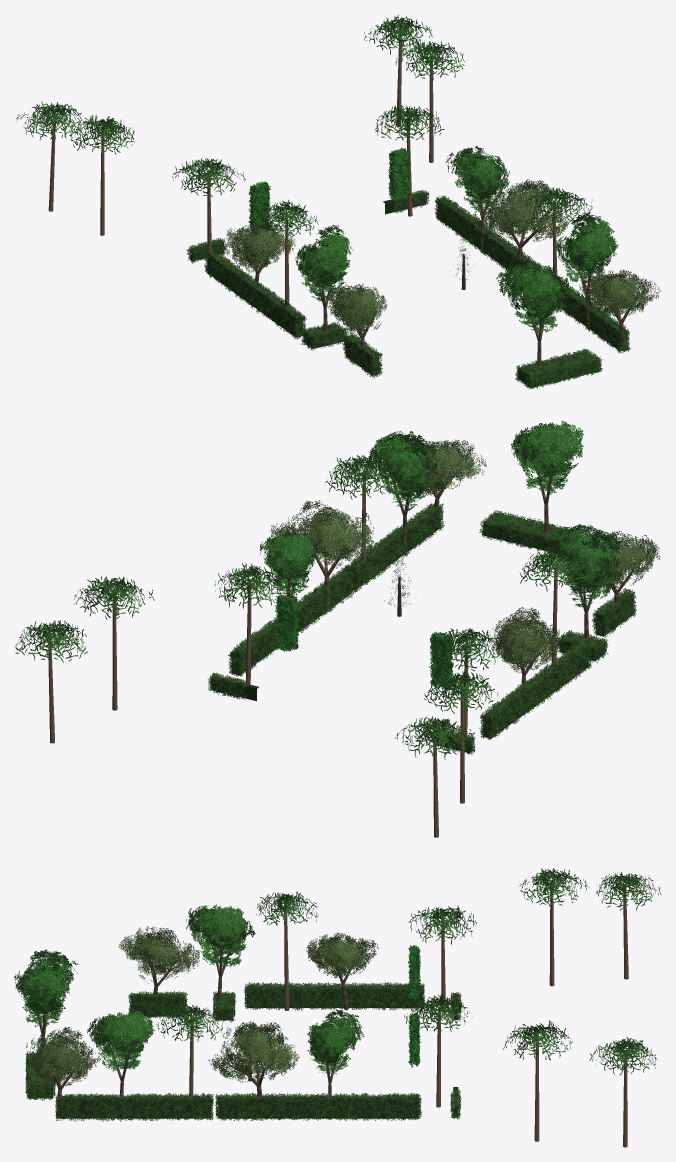
File: planting_v2.glb
3 renders of one model, top to bottom at view 1: azimuth 30°, elevation 25°; view 2: azimuth 150°, elevation 25°; view 3: azimuth 270°, elevation 25°, orthographic. The views are drawn at different scales.
Visible parts, largest first — view 1: MAT_hedge_leaf_4, MAT_leaf_broad_2, MAT_leaf_olive_1, MAT_palm_frond_9, MAT_hedge_core_3, MAT_palm_bark_8, MAT_bark_proc_0, MAT_column_leaf_7; view 2: MAT_hedge_leaf_4, MAT_leaf_broad_2, MAT_palm_frond_9, MAT_leaf_olive_1, MAT_hedge_core_3, MAT_palm_bark_8, MAT_column_leaf_7, MAT_bark_proc_0; view 3: MAT_hedge_leaf_4, MAT_leaf_olive_1, MAT_leaf_broad_2, MAT_palm_frond_9, MAT_hedge_core_3, MAT_palm_bark_8, MAT_bark_proc_0, MAT_column_leaf_7.
Part boxes in pixels (x1=…): MAT_hedge_leaf_4: x1=186, y1=190, x2=630, y2=388; MAT_leaf_broad_2: x1=295, y1=146, x2=618, y2=333; MAT_leaf_olive_1: x1=224, y1=179, x2=661, y2=335; MAT_palm_frond_9: x1=16, y1=15, x2=592, y2=239; MAT_hedge_core_3: x1=190, y1=192, x2=626, y2=387; MAT_palm_bark_8: x1=48, y1=27, x2=557, y2=304; MAT_bark_proc_0: x1=236, y1=158, x2=648, y2=367; MAT_column_leaf_7: x1=248, y1=147, x2=410, y2=231; MAT_hedge_leaf_4: x1=208, y1=502, x2=636, y2=754; MAT_leaf_broad_2: x1=260, y1=421, x2=621, y2=607; MAT_palm_frond_9: x1=15, y1=455, x2=594, y2=759; MAT_leaf_olive_1: x1=270, y1=439, x2=660, y2=672; MAT_hedge_core_3: x1=211, y1=505, x2=633, y2=752; MAT_palm_bark_8: x1=48, y1=470, x2=557, y2=837; MAT_column_leaf_7: x1=275, y1=594, x2=453, y2=689; MAT_bark_proc_0: x1=284, y1=446, x2=644, y2=684; MAT_hedge_leaf_4: x1=25, y1=982, x2=461, y2=1121; MAT_leaf_olive_1: x1=25, y1=926, x2=378, y2=1086; MAT_leaf_broad_2: x1=14, y1=904, x2=364, y2=1074; MAT_palm_frond_9: x1=156, y1=868, x2=661, y2=1075; MAT_hedge_core_3: x1=28, y1=985, x2=458, y2=1118; MAT_palm_bark_8: x1=189, y1=880, x2=628, y2=1147; MAT_bark_proc_0: x1=37, y1=920, x2=366, y2=1118; MAT_column_leaf_7: x1=408, y1=945, x2=420, y2=1068.
Bounding box in the file's own units: 31.56 × 8.91 × 44.01.
10 materials, 7 textured.
